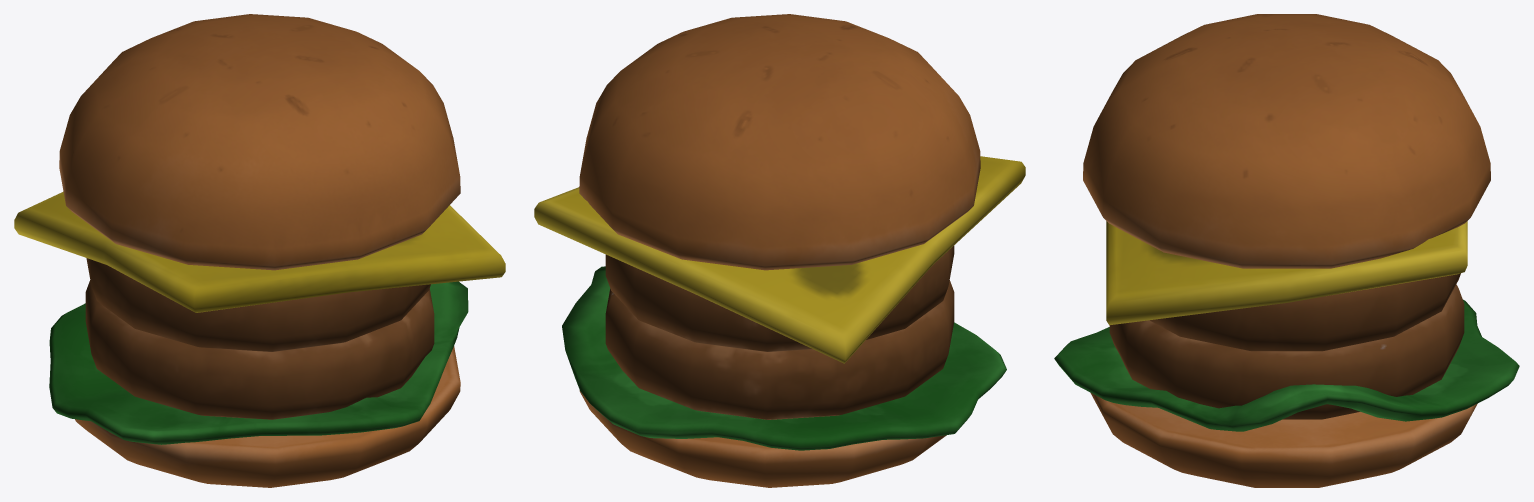
File: MSH_Hamburgiesa_P_2C_L_Q_J.fbx
3 renders of one model, left to right at view 1: azimuth 30°, elevation 25°; view 2: azimuth 150°, elevation 25°; view 3: azimuth 270°, elevation 25°, orthographic.
Parts seen in each view (by area): view 1: MSH_Hamburgiesa_P_2C_L_Q_J; view 2: MSH_Hamburgiesa_P_2C_L_Q_J; view 3: MSH_Hamburgiesa_P_2C_L_Q_J.
Boxes of the visible parts, box(x1,y1,x2,y2) form: MSH_Hamburgiesa_P_2C_L_Q_J: box(14, 14, 505, 487); MSH_Hamburgiesa_P_2C_L_Q_J: box(534, 14, 1025, 487); MSH_Hamburgiesa_P_2C_L_Q_J: box(1054, 14, 1519, 487).
Size of the model in its own units: 16.25 by 16.87 by 15.4.
1 material, 1 textured.
